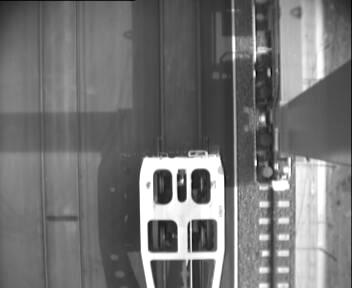twist_lock_2: (149, 166, 214, 207)
